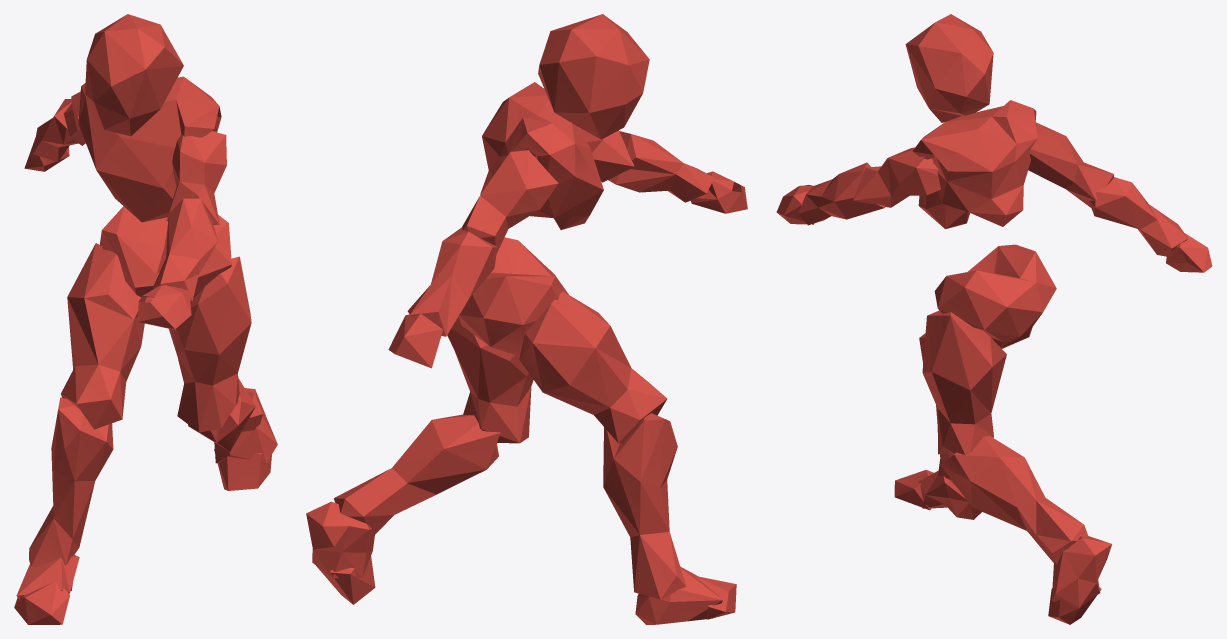
File: 2dancer0183.obj
3 views of the same model, side by side, from view 1: azimuth 30°, elevation 25°; view 2: azimuth 150°, elevation 25°; view 3: azimuth 270°, elevation 25° (orthographic). The views are drawn at different scales.
Visible parts, largest first — view 1: Beta_Surface; view 2: Beta_Surface; view 3: Beta_Surface.
Boxes of the visible parts, box(x1,y1,x2,y2) form: Beta_Surface: box(14, 14, 277, 624); Beta_Surface: box(306, 14, 747, 624); Beta_Surface: box(776, 14, 1212, 624).
Size of the model in its own units: 1.03 by 1.7 by 1.28.
